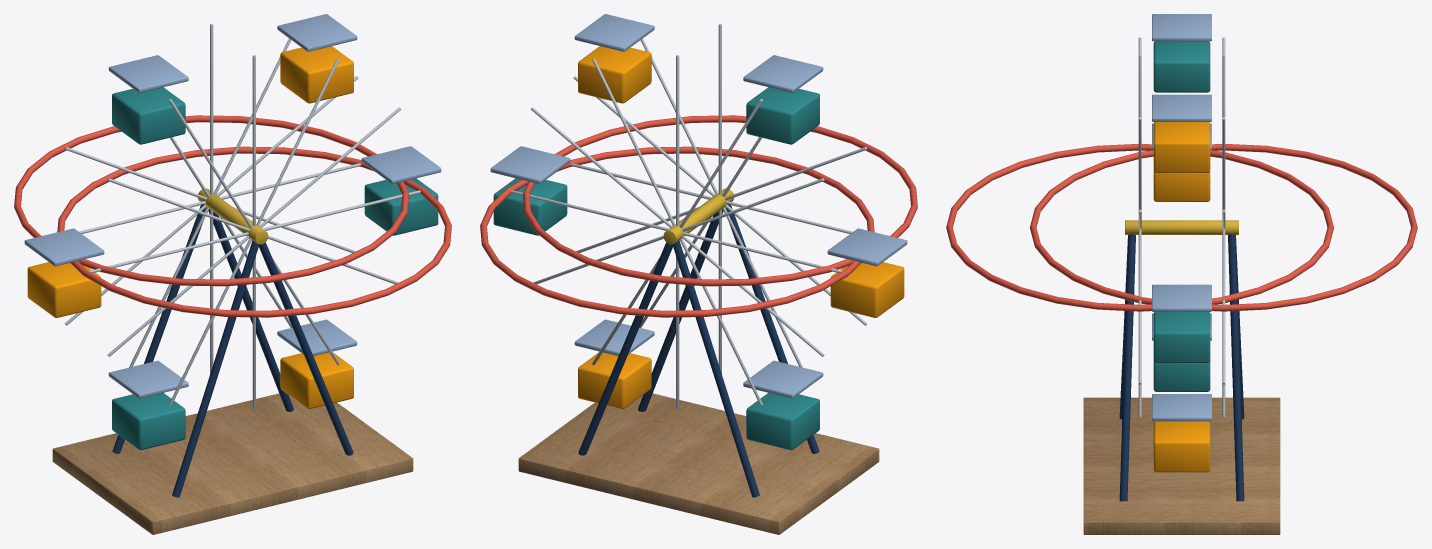
The model's file is fair-ferris-7bf0715a75b4.glb.
3 views of the same model, side by side, from view 1: azimuth 30°, elevation 25°; view 2: azimuth 150°, elevation 25°; view 3: azimuth 270°, elevation 25° (orthographic). The views are drawn at different scales.
Visible parts, largest first — view 1: Deck_Platform, Spoke_-0.68_0, Rim_-0.68, Roof_0, Tub_1, Tub_0, A_Leg_-1.6_-0.95, Axle; view 2: Deck_Platform, Spoke_-0.68_0, Rim_-0.68, Roof_0, Tub_1, Tub_0, A_Leg_-1.6_-0.95, Axle; view 3: Deck_Platform, Rim_-0.68, Tub_0, Tub_1, Roof_0, A_Leg_-1.6_-0.95, Spoke_-0.68_0, Axle.
Boxes of the visible parts, box(x1,y1,x2,y2) form: Deck_Platform: box(52, 393, 413, 534); Spoke_-0.68_0: box(64, 24, 420, 408); Rim_-0.68: box(14, 115, 451, 317); Roof_0: box(24, 14, 441, 398); Tub_1: box(27, 46, 353, 408); Tub_0: box(112, 87, 438, 450); A_Leg_-1.6_-0.95: box(112, 204, 353, 497); Axle: box(197, 188, 268, 244); Deck_Platform: box(518, 393, 879, 534); Spoke_-0.68_0: box(511, 24, 867, 408); Rim_-0.68: box(480, 115, 917, 317); Roof_0: box(490, 14, 907, 398); Tub_1: box(578, 46, 904, 408); Tub_0: box(493, 87, 819, 450); A_Leg_-1.6_-0.95: box(578, 204, 819, 497); Axle: box(663, 188, 734, 244); Deck_Platform: box(1083, 397, 1280, 534); Rim_-0.68: box(946, 144, 1417, 311); Tub_0: box(1153, 41, 1210, 391); Tub_1: box(1153, 122, 1210, 472); Roof_0: box(1152, 14, 1211, 421); A_Leg_-1.6_-0.95: box(1119, 234, 1244, 501); Spoke_-0.68_0: box(1138, 37, 1225, 417); Axle: box(1125, 220, 1238, 234).
Bounding box in the file's own units: 7.12 × 7.5 × 7.67.
Materials: 8 (2 with a texture image).
